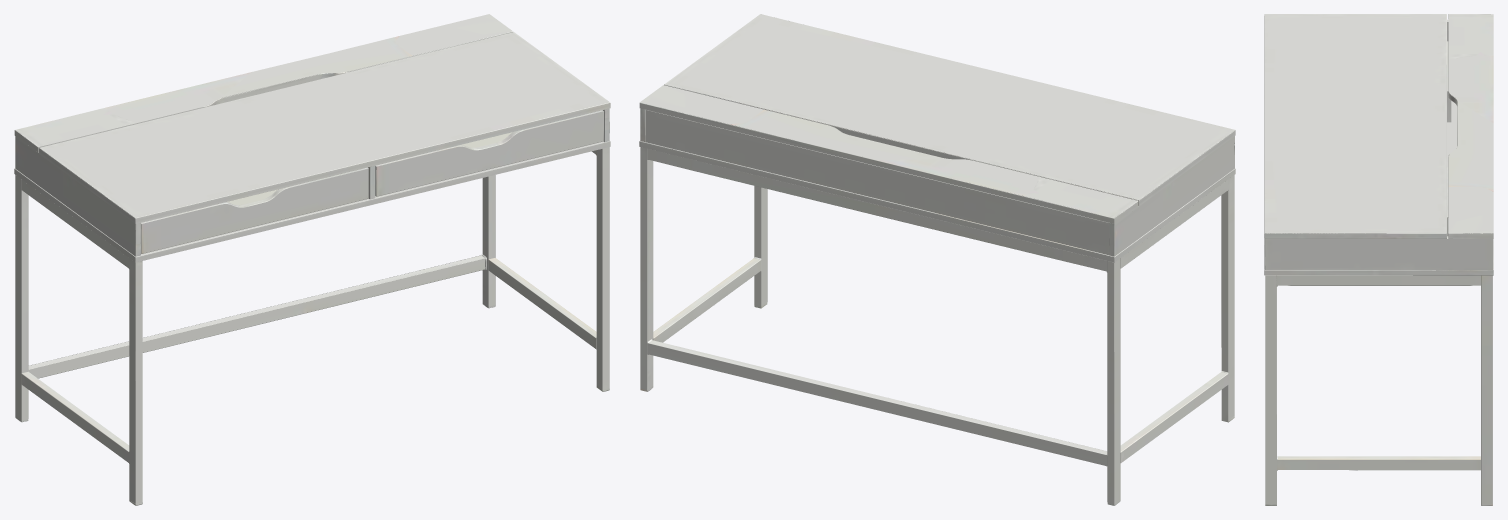
3 views of the same model, side by side, from view 1: azimuth 30°, elevation 25°; view 2: azimuth 150°, elevation 25°; view 3: azimuth 270°, elevation 25° (orthographic). The views are drawn at different scales.
Visible parts, largest first — view 1: 80483438-ALEX001; view 2: 80483438-ALEX001; view 3: 80483438-ALEX001.
Part boxes in pixels (x1,y1,x2,y2): 80483438-ALEX001: (14, 14, 610, 505); 80483438-ALEX001: (639, 14, 1235, 505); 80483438-ALEX001: (1264, 14, 1493, 505).
Bounding box in the file's own units: 1.31 × 0.7613 × 0.5803.
1 material, 1 textured.
